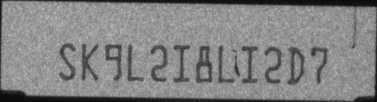2: (150, 43, 169, 83), (263, 43, 281, 83)
7: (311, 47, 328, 83)
8: (195, 44, 212, 83)
9: (104, 43, 123, 82)
D: (285, 46, 305, 85)
I: (172, 44, 191, 82), (240, 45, 259, 83)
K: (80, 41, 98, 82)
L: (126, 44, 145, 81), (217, 46, 235, 83)
S: (56, 42, 76, 81)
